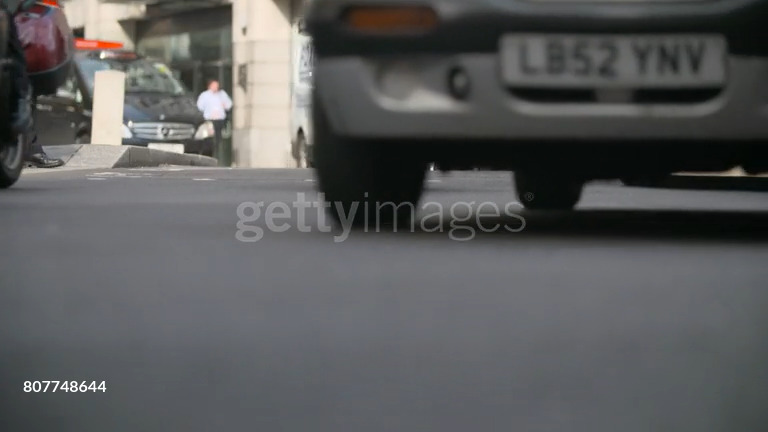car number: (504, 31, 722, 85)
